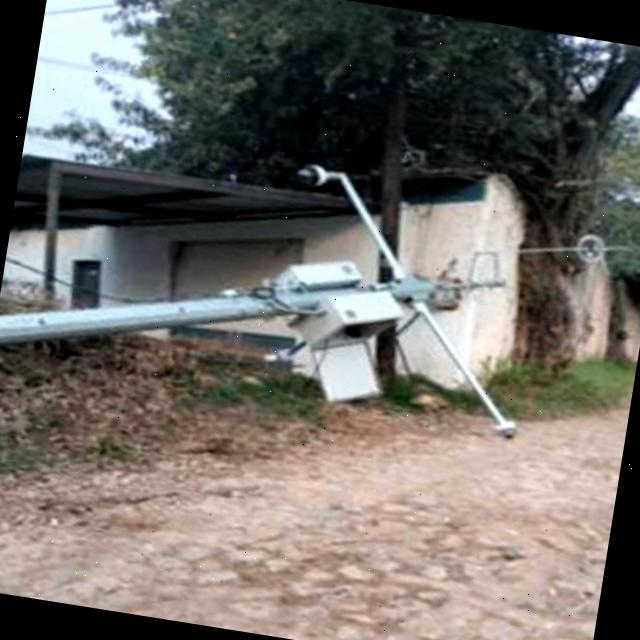Broken Pole: (0, 165, 526, 442)
